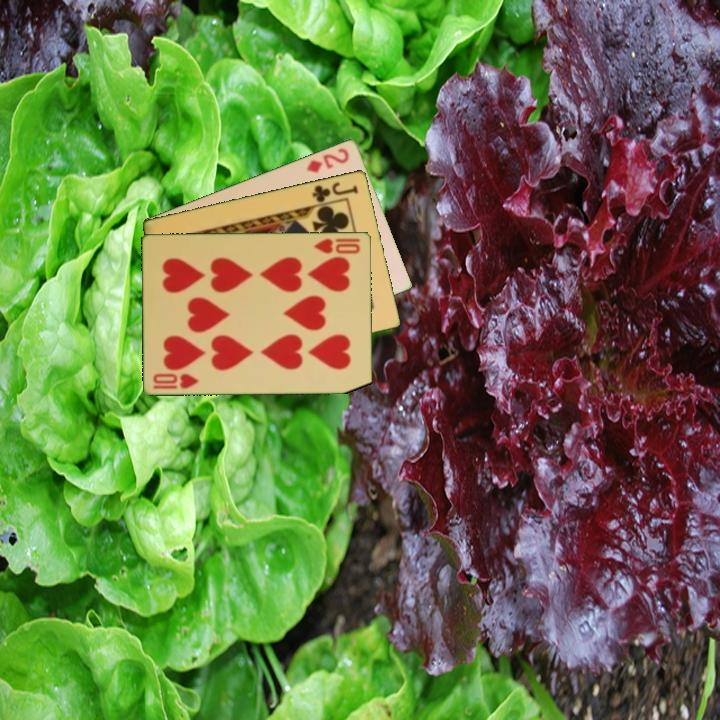10h: (150, 369, 202, 391), (311, 235, 363, 256)
2d: (303, 144, 352, 176)
Jc: (309, 178, 361, 205)
